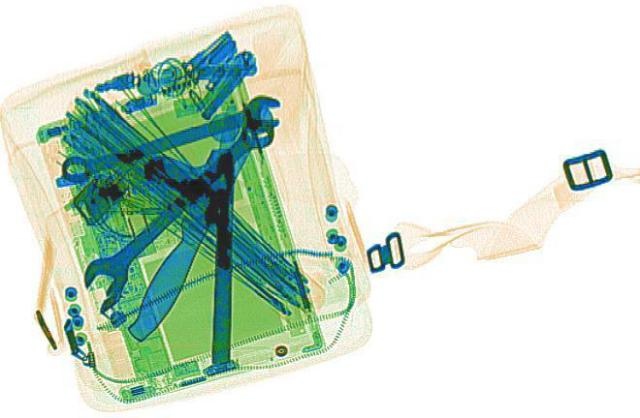Gun: (142, 147, 238, 267)
Wrench: (65, 113, 289, 299), (47, 89, 296, 188)
